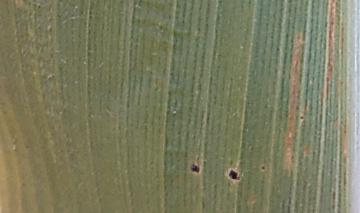tarspot: (227, 168, 241, 182), (189, 161, 200, 174), (298, 114, 305, 122), (47, 24, 53, 33), (260, 164, 266, 171), (36, 3, 41, 10)
